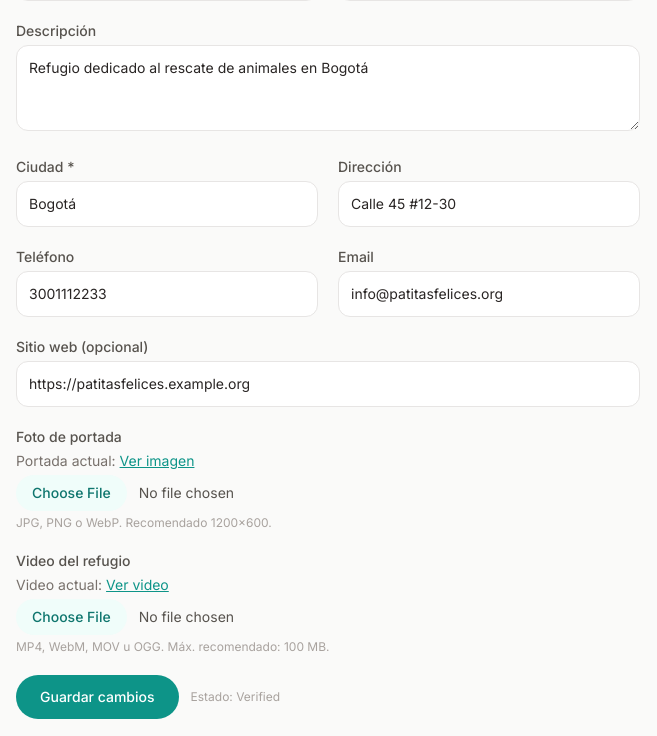
Test: ShelterConfigPage › shows Guardando text while saving
(page scrolled)
Click the button "Guardar cambios".
click(97, 697)  # box [16,675,178,719]
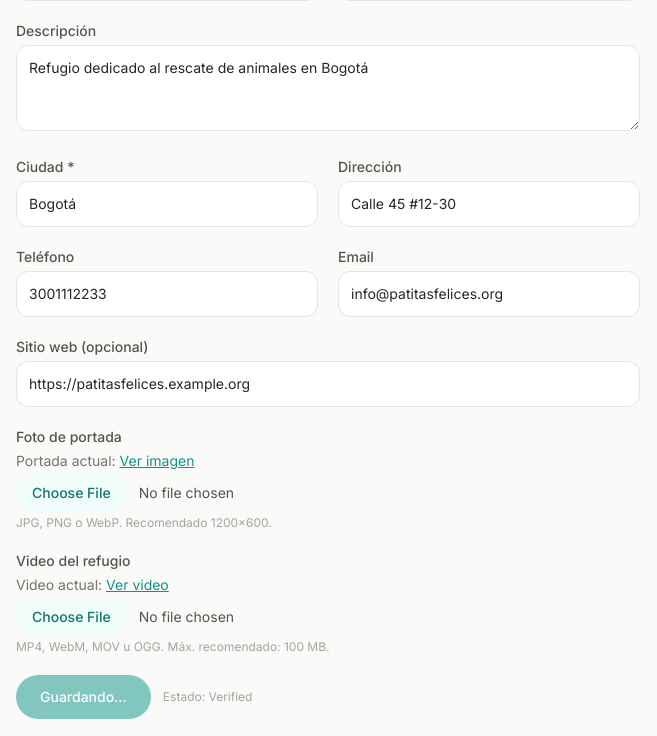
expect the button "Guardando..." is disabled: met, box [16,675,151,719]
